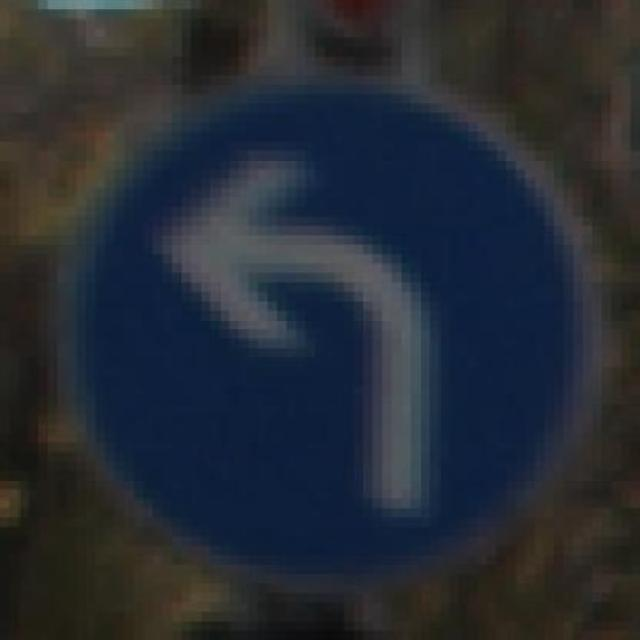Turn left ahead: (67, 66, 611, 565)
